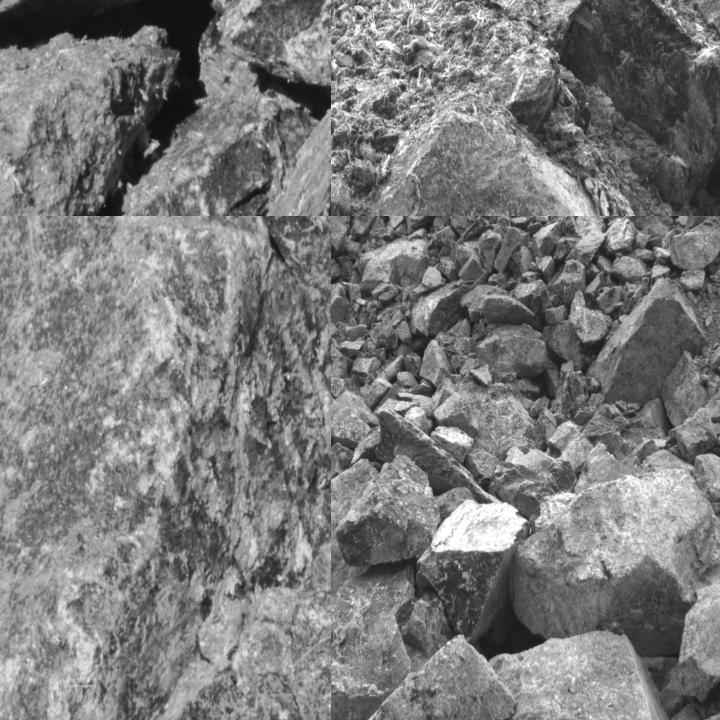stone: (0, 216, 330, 719), (68, 8, 315, 215), (514, 467, 719, 656), (551, 0, 719, 210), (0, 45, 183, 215), (0, 0, 330, 67), (181, 77, 330, 215), (491, 629, 673, 719), (417, 502, 526, 644), (345, 634, 518, 719), (331, 557, 417, 719), (350, 412, 496, 502), (435, 376, 549, 485), (335, 454, 439, 567), (489, 448, 576, 519), (680, 568, 719, 705), (410, 274, 485, 338), (357, 234, 430, 290), (477, 326, 546, 377), (661, 348, 706, 423), (542, 318, 596, 372), (669, 216, 719, 272), (674, 406, 716, 461), (436, 319, 476, 374), (430, 425, 476, 466), (331, 409, 374, 449), (566, 228, 608, 268), (548, 260, 586, 302), (570, 307, 614, 343), (494, 227, 528, 273), (420, 340, 450, 389), (532, 219, 564, 259), (512, 278, 549, 312), (694, 454, 719, 503), (605, 217, 635, 255), (478, 230, 503, 274), (613, 256, 649, 282), (331, 216, 351, 257), (509, 246, 533, 280), (572, 216, 605, 239), (679, 269, 707, 292)
